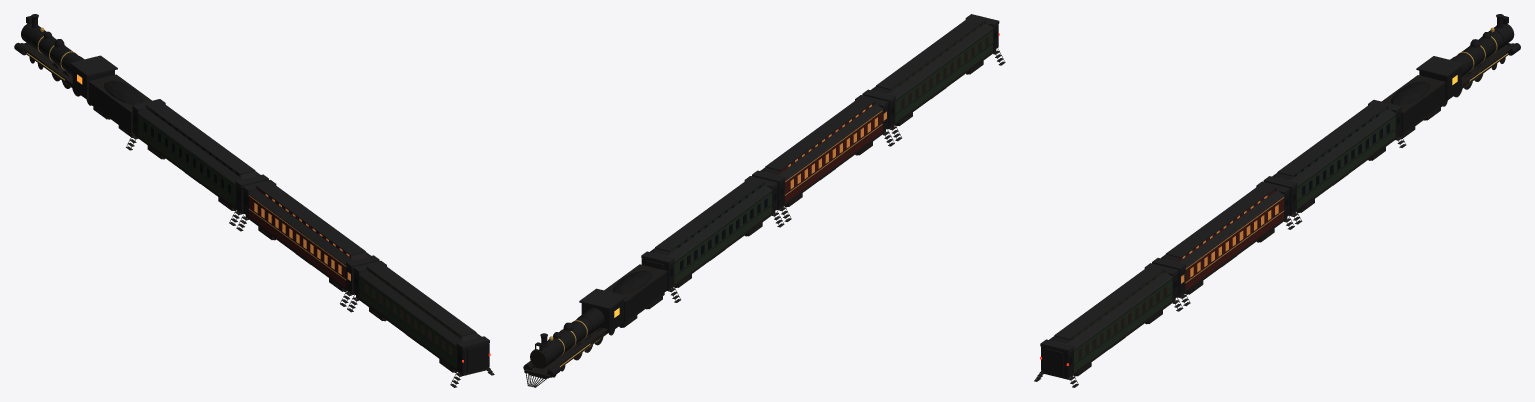
File: hoboken_train.glb
3 renders of one model, left to right at view 1: azimuth 30°, elevation 25°; view 2: azimuth 150°, elevation 25°; view 3: azimuth 330°, elevation 25°, orthographic.
Parts seen in each view (by area): view 1: Coach1-col, Coach2-col, PrivateCar-col, Engine-col; view 2: Coach2-col, Engine-col, Coach1-col, PrivateCar-col; view 3: Coach1-col, Coach2-col, PrivateCar-col, Engine-col.
Part boxes in pixels (bbox=[...]): Coach1-col: bbox=[347, 260, 494, 387]; Coach2-col: bbox=[126, 99, 268, 225]; PrivateCar-col: bbox=[236, 180, 379, 306]; Engine-col: bbox=[14, 14, 151, 137]; Coach2-col: bbox=[641, 176, 784, 302]; Engine-col: bbox=[523, 264, 667, 387]; Coach1-col: bbox=[862, 14, 1005, 141]; PrivateCar-col: bbox=[752, 95, 894, 221]; Coach1-col: bbox=[1034, 263, 1183, 387]; Coach2-col: bbox=[1263, 100, 1406, 224]; PrivateCar-col: bbox=[1152, 181, 1294, 306]; Engine-col: bbox=[1382, 14, 1520, 139].
Size of the model in its own units: 4.51 by 4.82 by 87.58.
Materials: 13 (2 with a texture image).
